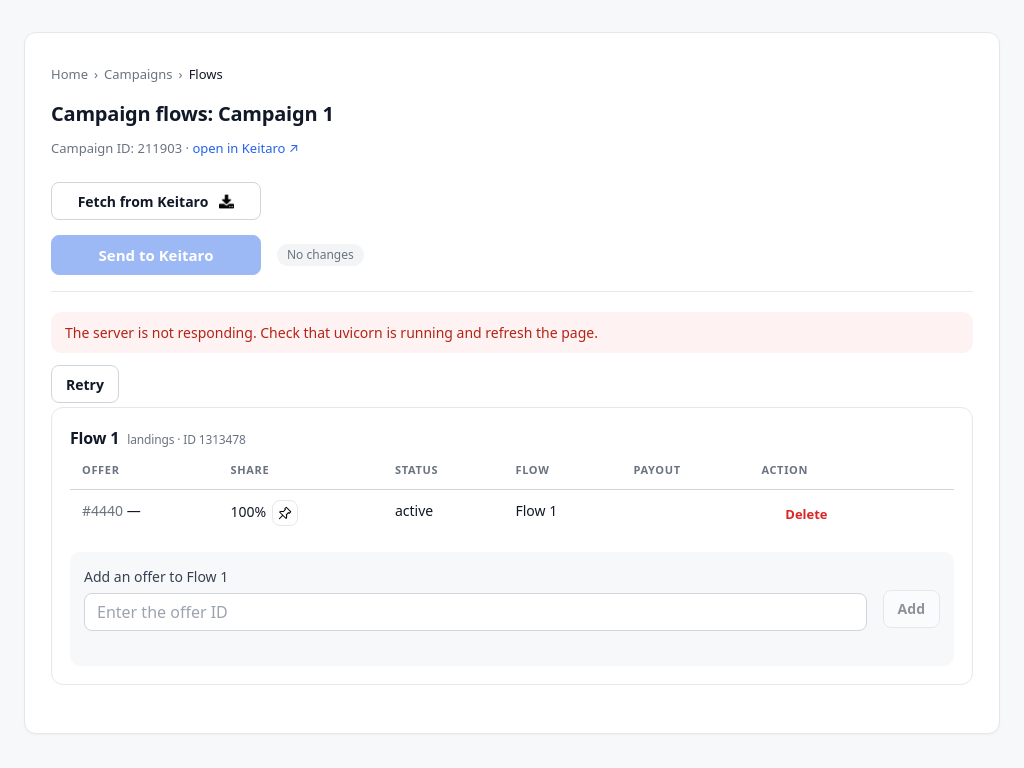
Test: StreamsContent — server unavailable (status 0) › "Retry" refetches the data; after success the block disappears
Expected: the text "The server is not responding. Check that uvicorn is running and refresh the page." is shown, left=65, top=323, right=598, bottom=342
Click the button "Retry" at (85, 384), box left=51, top=365, right=119, bottom=403
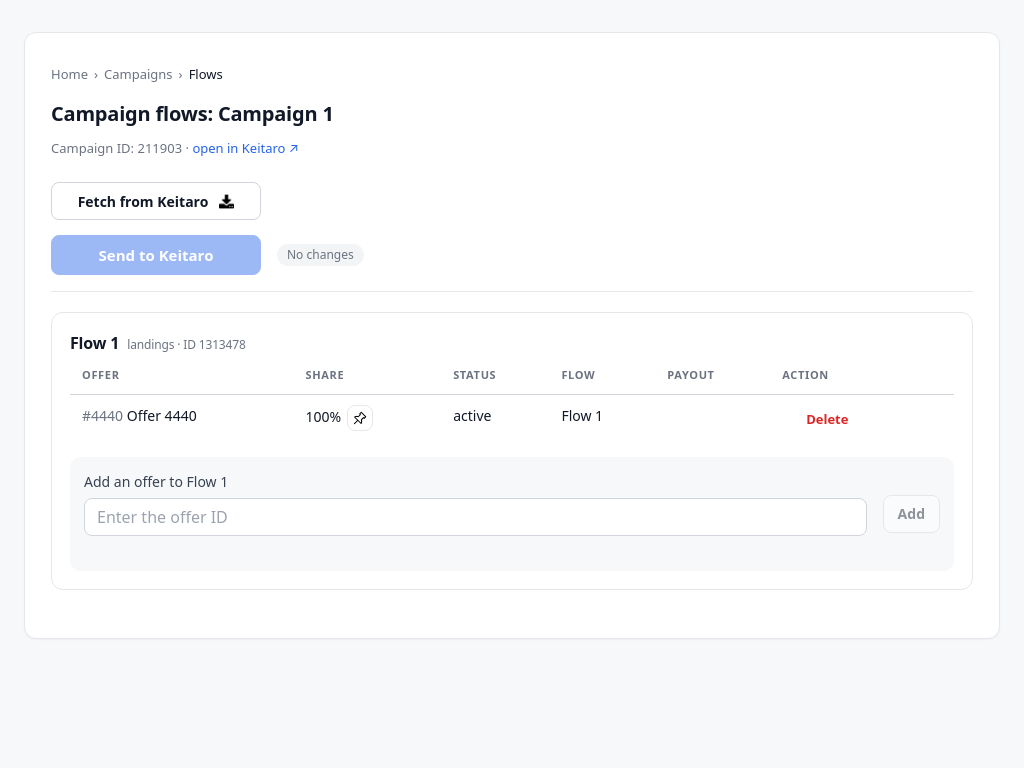
Now the text "Offer 4440" is shown, box left=127, top=406, right=197, bottom=424
Now the text "The server is not responding. Check that uvicorn is running and refresh the page." is gone
